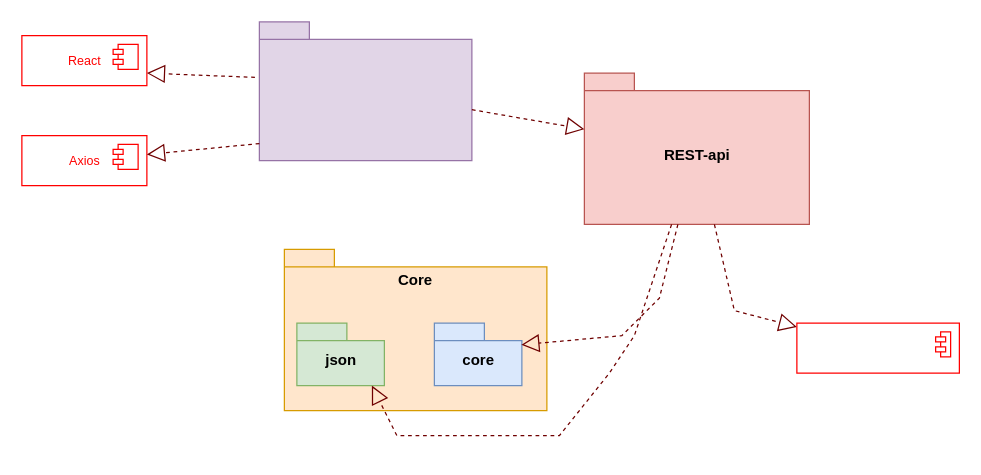
Image size: 981x475. Some labels were removed from this diagram. Each missing label, with the centre of its shape:
Client: pixel 365 91
spring-boot-starter-web: pixel 877 347
